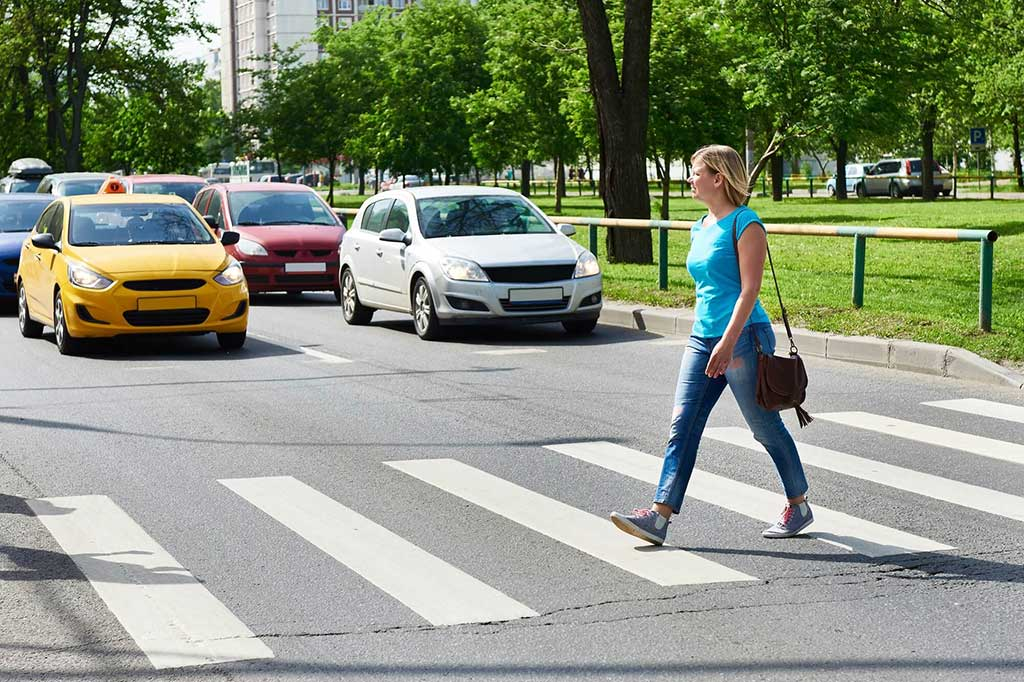Car: (331, 185, 605, 335), (6, 196, 261, 354), (184, 169, 361, 304)
Crosswalk: (16, 454, 635, 663)
Person: (633, 140, 821, 559)
Tree: (741, 5, 918, 202), (853, 1, 1006, 190), (457, 4, 578, 193), (1, 1, 128, 161)
